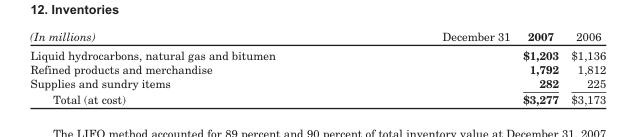table: (29, 28, 605, 105)
table column: (29, 28, 358, 105), (358, 28, 515, 105), (515, 28, 564, 105), (564, 28, 605, 105)
table column header: (29, 28, 605, 45)
table row: (29, 28, 605, 45), (29, 45, 605, 61), (29, 75, 605, 90), (29, 90, 605, 105), (29, 61, 605, 75)
